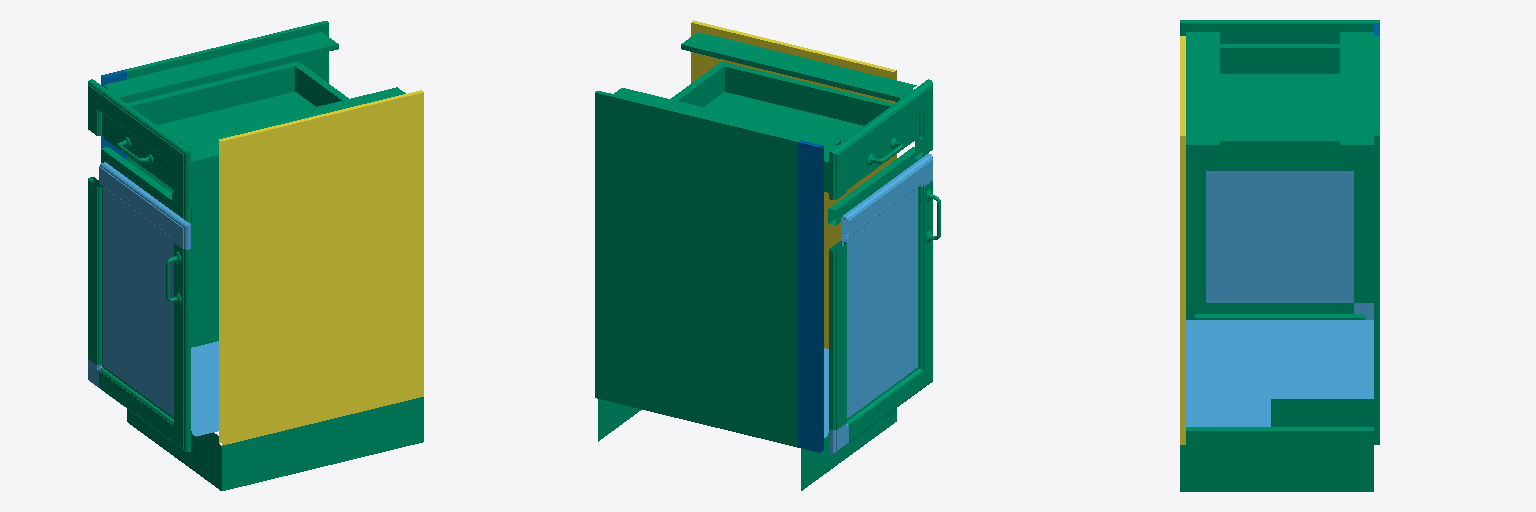
The robot description file, URDF, robot "partnet_3ea1ace396f6ccae48407a54b1fbfda8":
<?xml version="1.0" encoding="utf-8"?>
<robot name="partnet_3ea1ace396f6ccae48407a54b1fbfda8">
 <link name="base"/>
 <link name="link_0">
  <visual name="door-1">
   <origin xyz="-0.58423 0.6423879359070063 -0.5040723291093724"/>
   <geometry>
    <mesh filename="textured_objs/original-48.obj"/>
   </geometry>
  </visual>
  <visual name="door-1">
   <origin xyz="-0.58423 0.6423879359070063 -0.5040723291093724"/>
   <geometry>
    <mesh filename="textured_objs/original-54.obj"/>
   </geometry>
  </visual>
  <visual name="door-1">
   <origin xyz="-0.58423 0.6423879359070063 -0.5040723291093724"/>
   <geometry>
    <mesh filename="textured_objs/original-53.obj"/>
   </geometry>
  </visual>
  <visual name="door-1">
   <origin xyz="-0.58423 0.6423879359070063 -0.5040723291093724"/>
   <geometry>
    <mesh filename="textured_objs/original-52.obj"/>
   </geometry>
  </visual>
  <visual name="door-1">
   <origin xyz="-0.58423 0.6423879359070063 -0.5040723291093724"/>
   <geometry>
    <mesh filename="textured_objs/original-3.obj"/>
   </geometry>
  </visual>
  <visual name="door-1">
   <origin xyz="-0.58423 0.6423879359070063 -0.5040723291093724"/>
   <geometry>
    <mesh filename="textured_objs/original-49.obj"/>
   </geometry>
  </visual>
  <collision>
   <geometry>
    <mesh filename="cvx_objs/link_0.obj"/>
   </geometry>
  </collision>
 </link>
 <joint name="joint_0" type="revolute">
  <origin xyz="0.58423 -0.6423879359070063 0.5040723291093724"/>
  <axis xyz="1 0 0"/>
  <child link="link_0"/>
  <parent link="link_9"/>
  <limit lower="0.0" upper="1.5707963267948966"/>
 </joint>
 <link name="link_1">
  <visual name="knob-2">
   <origin xyz="0.48916950000000003 -0.5199065 0"/>
   <geometry>
    <mesh filename="textured_objs/original-9.obj"/>
   </geometry>
  </visual>
  <collision>
   <geometry>
    <mesh filename="cvx_objs/link_1.obj"/>
   </geometry>
  </collision>
 </link>
 <joint name="joint_1" type="continuous">
  <origin xyz="-0.48916950000000003 0.5199065 0"/>
  <axis xyz="0 0 1"/>
  <child link="link_1"/>
  <parent link="link_9"/>
 </joint>
 <link name="link_2">
  <visual name="knob-3">
   <origin xyz="0.37333099999999997 -0.5199065 0"/>
   <geometry>
    <mesh filename="textured_objs/original-12.obj"/>
   </geometry>
  </visual>
  <collision>
   <geometry>
    <mesh filename="cvx_objs/link_2.obj"/>
   </geometry>
  </collision>
 </link>
 <joint name="joint_2" type="continuous">
  <origin xyz="-0.37333099999999997 0.5199065 0"/>
  <axis xyz="0 0 1"/>
  <child link="link_2"/>
  <parent link="link_9"/>
 </joint>
 <link name="link_3">
  <visual name="knob-4">
   <origin xyz="0.25749299999999997 -0.5199065 0"/>
   <geometry>
    <mesh filename="textured_objs/original-15.obj"/>
   </geometry>
  </visual>
  <collision>
   <geometry>
    <mesh filename="cvx_objs/link_3.obj"/>
   </geometry>
  </collision>
 </link>
 <joint name="joint_3" type="continuous">
  <origin xyz="-0.25749299999999997 0.5199065 0"/>
  <axis xyz="0 0 1"/>
  <child link="link_3"/>
  <parent link="link_9"/>
 </joint>
 <link name="link_4">
  <visual name="button-5">
   <origin xyz="0.076329 -0.518193 0"/>
   <geometry>
    <mesh filename="textured_objs/original-101.obj"/>
   </geometry>
  </visual>
  <collision>
   <geometry>
    <mesh filename="cvx_objs/link_4.obj"/>
   </geometry>
  </collision>
 </link>
 <joint name="joint_4" type="prismatic">
  <origin xyz="-0.076329 0.518193 0"/>
  <axis xyz="0 0 -1"/>
  <child link="link_4"/>
  <parent link="link_9"/>
  <limit lower="0" upper="0.008000000000000007"/>
 </joint>
 <link name="link_5">
  <visual name="button-6">
   <origin xyz="0.076329 -0.518193 0"/>
   <geometry>
    <mesh filename="textured_objs/original-102.obj"/>
   </geometry>
  </visual>
  <collision>
   <geometry>
    <mesh filename="cvx_objs/link_5.obj"/>
   </geometry>
  </collision>
 </link>
 <joint name="joint_5" type="prismatic">
  <origin xyz="-0.076329 0.518193 0"/>
  <axis xyz="0 0 -1"/>
  <child link="link_5"/>
  <parent link="link_9"/>
  <limit lower="0" upper="0.008000000000000007"/>
 </joint>
 <link name="link_6">
  <visual name="button-7">
   <origin xyz="0.076329 -0.518193 0"/>
   <geometry>
    <mesh filename="textured_objs/original-109.obj"/>
   </geometry>
  </visual>
  <collision>
   <geometry>
    <mesh filename="cvx_objs/link_6.obj"/>
   </geometry>
  </collision>
 </link>
 <joint name="joint_6" type="prismatic">
  <origin xyz="-0.076329 0.518193 0"/>
  <axis xyz="0 0 -1"/>
  <child link="link_6"/>
  <parent link="link_9"/>
  <limit lower="0" upper="0.008000000000000007"/>
 </joint>
 <link name="link_7">
  <visual name="button-8">
   <origin xyz="0.076329 -0.518193 0"/>
   <geometry>
    <mesh filename="textured_objs/original-100.obj"/>
   </geometry>
  </visual>
  <collision>
   <geometry>
    <mesh filename="cvx_objs/link_7.obj"/>
   </geometry>
  </collision>
 </link>
 <joint name="joint_7" type="prismatic">
  <origin xyz="-0.076329 0.518193 0"/>
  <axis xyz="0 0 -1"/>
  <child link="link_7"/>
  <parent link="link_9"/>
  <limit lower="0" upper="0.008000000000000007"/>
 </joint>
 <link name="link_8">
  <visual name="button-9">
   <origin xyz="0.076329 -0.518193 0"/>
   <geometry>
    <mesh filename="textured_objs/original-107.obj"/>
   </geometry>
  </visual>
  <collision>
   <geometry>
    <mesh filename="cvx_objs/link_8.obj"/>
   </geometry>
  </collision>
 </link>
 <joint name="joint_8" type="prismatic">
  <origin xyz="-0.076329 0.518193 0"/>
  <axis xyz="0 0 -1"/>
  <child link="link_8"/>
  <parent link="link_9"/>
  <limit lower="0" upper="0.008000000000000007"/>
 </joint>
 <link name="link_9">
  <visual name="base_body-10">
   <origin xyz="0 0 0"/>
   <geometry>
    <mesh filename="textured_objs/original-103.obj"/>
   </geometry>
  </visual>
  <visual name="base_body-10">
   <origin xyz="0 0 0"/>
   <geometry>
    <mesh filename="textured_objs/original-21.obj"/>
   </geometry>
  </visual>
  <visual name="base_body-10">
   <origin xyz="0 0 0"/>
   <geometry>
    <mesh filename="textured_objs/original-30.obj"/>
   </geometry>
  </visual>
  <visual name="base_body-10">
   <origin xyz="0 0 0"/>
   <geometry>
    <mesh filename="textured_objs/original-36.obj"/>
   </geometry>
  </visual>
  <visual name="base_body-10">
   <origin xyz="0 0 0"/>
   <geometry>
    <mesh filename="textured_objs/original-28.obj"/>
   </geometry>
  </visual>
  <visual name="base_body-10">
   <origin xyz="0 0 0"/>
   <geometry>
    <mesh filename="textured_objs/original-96.obj"/>
   </geometry>
  </visual>
  <visual name="base_body-10">
   <origin xyz="0 0 0"/>
   <geometry>
    <mesh filename="textured_objs/original-64.obj"/>
   </geometry>
  </visual>
  <visual name="base_body-10">
   <origin xyz="0 0 0"/>
   <geometry>
    <mesh filename="textured_objs/original-43.obj"/>
   </geometry>
  </visual>
  <visual name="base_body-10">
   <origin xyz="0 0 0"/>
   <geometry>
    <mesh filename="textured_objs/original-71.obj"/>
   </geometry>
  </visual>
  <visual name="base_body-10">
   <origin xyz="0 0 0"/>
   <geometry>
    <mesh filename="textured_objs/original-83.obj"/>
   </geometry>
  </visual>
  <visual name="base_body-10">
   <origin xyz="0 0 0"/>
   <geometry>
    <mesh filename="textured_objs/original-22.obj"/>
   </geometry>
  </visual>
  <visual name="base_body-10">
   <origin xyz="0 0 0"/>
   <geometry>
    <mesh filename="textured_objs/original-26.obj"/>
   </geometry>
  </visual>
  <visual name="base_body-10">
   <origin xyz="0 0 0"/>
   <geometry>
    <mesh filename="textured_objs/original-104.obj"/>
   </geometry>
  </visual>
  <visual name="base_body-10">
   <origin xyz="0 0 0"/>
   <geometry>
    <mesh filename="textured_objs/original-65.obj"/>
   </geometry>
  </visual>
  <visual name="base_body-10">
   <origin xyz="0 0 0"/>
   <geometry>
    <mesh filename="textured_objs/original-33.obj"/>
   </geometry>
  </visual>
  <visual name="base_body-10">
   <origin xyz="0 0 0"/>
   <geometry>
    <mesh filename="textured_objs/original-44.obj"/>
   </geometry>
  </visual>
  <visual name="base_body-10">
   <origin xyz="0 0 0"/>
   <geometry>
    <mesh filename="textured_objs/original-106.obj"/>
   </geometry>
  </visual>
  <visual name="base_body-10">
   <origin xyz="0 0 0"/>
   <geometry>
    <mesh filename="textured_objs/original-16.obj"/>
   </geometry>
  </visual>
  <visual name="base_body-10">
   <origin xyz="0 0 0"/>
   <geometry>
    <mesh filename="textured_objs/original-86.obj"/>
   </geometry>
  </visual>
  <visual name="base_body-10">
   <origin xyz="0 0 0"/>
   <geometry>
    <mesh filename="textured_objs/original-13.obj"/>
   </geometry>
  </visual>
  <visual name="base_body-10">
   <origin xyz="0 0 0"/>
   <geometry>
    <mesh filename="textured_objs/original-45.obj"/>
   </geometry>
  </visual>
  <visual name="base_body-10">
   <origin xyz="0 0 0"/>
   <geometry>
    <mesh filename="textured_objs/original-35.obj"/>
   </geometry>
  </visual>
  <visual name="base_body-10">
   <origin xyz="0 0 0"/>
   <geometry>
    <mesh filename="textured_objs/original-93.obj"/>
   </geometry>
  </visual>
  <visual name="base_body-10">
   <origin xyz="0 0 0"/>
   <geometry>
    <mesh filename="textured_objs/original-61.obj"/>
   </geometry>
  </visual>
  <visual name="base_body-10">
   <origin xyz="0 0 0"/>
   <geometry>
    <mesh filename="textured_objs/original-39.obj"/>
   </geometry>
  </visual>
  <visual name="base_body-10">
   <origin xyz="0 0 0"/>
   <geometry>
    <mesh filename="textured_objs/original-59.obj"/>
   </geometry>
  </visual>
  <visual name="base_body-10">
   <origin xyz="0 0 0"/>
   <geometry>
    <mesh filename="textured_objs/original-77.obj"/>
   </geometry>
  </visual>
  <visual name="base_body-10">
   <origin xyz="0 0 0"/>
   <geometry>
    <mesh filename="textured_objs/original-63.obj"/>
   </geometry>
  </visual>
  <visual name="base_body-10">
   <origin xyz="0 0 0"/>
   <geometry>
    <mesh filename="textured_objs/original-27.obj"/>
   </geometry>
  </visual>
  <visual name="base_body-10">
   <origin xyz="0 0 0"/>
   <geometry>
    <mesh filename="textured_objs/original-87.obj"/>
   </geometry>
  </visual>
  <visual name="base_body-10">
   <origin xyz="0 0 0"/>
   <geometry>
    <mesh filename="textured_objs/original-51.obj"/>
   </geometry>
  </visual>
  <visual name="base_body-10">
   <origin xyz="0 0 0"/>
   <geometry>
    <mesh filename="textured_objs/original-55.obj"/>
   </geometry>
  </visual>
  <visual name="base_body-10">
   <origin xyz="0 0 0"/>
   <geometry>
    <mesh filename="textured_objs/original-50.obj"/>
   </geometry>
  </visual>
  <visual name="base_body-10">
   <origin xyz="0 0 0"/>
   <geometry>
    <mesh filename="textured_objs/original-31.obj"/>
   </geometry>
  </visual>
  <visual name="base_body-10">
   <origin xyz="0 0 0"/>
   <geometry>
    <mesh filename="textured_objs/original-85.obj"/>
   </geometry>
  </visual>
  <visual name="base_body-10">
   <origin xyz="0 0 0"/>
   <geometry>
    <mesh filename="textured_objs/original-56.obj"/>
   </geometry>
  </visual>
  <visual name="base_body-10">
   <origin xyz="0 0 0"/>
   <geometry>
    <mesh filename="textured_objs/original-76.obj"/>
   </geometry>
  </visual>
  <visual name="base_body-10">
   <origin xyz="0 0 0"/>
   <geometry>
    <mesh filename="textured_objs/original-108.obj"/>
   </geometry>
  </visual>
  <visual name="base_body-10">
   <origin xyz="0 0 0"/>
   <geometry>
    <mesh filename="textured_objs/original-72.obj"/>
   </geometry>
  </visual>
  <visual name="base_body-10">
   <origin xyz="0 0 0"/>
   <geometry>
    <mesh filename="textured_objs/original-99.obj"/>
   </geometry>
  </visual>
  <visual name="base_body-10">
   <origin xyz="0 0 0"/>
   <geometry>
    <mesh filename="textured_objs/original-62.obj"/>
   </geometry>
  </visual>
  <visual name="base_body-10">
   <origin xyz="0 0 0"/>
   <geometry>
    <mesh filename="textured_objs/original-75.obj"/>
   </geometry>
  </visual>
  <visual name="base_body-10">
   <origin xyz="0 0 0"/>
   <geometry>
    <mesh filename="textured_objs/original-23.obj"/>
   </geometry>
  </visual>
  <visual name="base_body-10">
   <origin xyz="0 0 0"/>
   <geometry>
    <mesh filename="textured_objs/original-66.obj"/>
   </geometry>
  </visual>
  <visual name="base_body-10">
   <origin xyz="0 0 0"/>
   <geometry>
    <mesh filename="textured_objs/original-58.obj"/>
   </geometry>
  </visual>
  <visual name="base_body-10">
   <origin xyz="0 0 0"/>
   <geometry>
    <mesh filename="textured_objs/original-98.obj"/>
   </geometry>
  </visual>
  <visual name="base_body-10">
   <origin xyz="0 0 0"/>
   <geometry>
    <mesh filename="textured_objs/original-67.obj"/>
   </geometry>
  </visual>
  <visual name="base_body-10">
   <origin xyz="0 0 0"/>
   <geometry>
    <mesh filename="textured_objs/original-69.obj"/>
   </geometry>
  </visual>
  <visual name="base_body-10">
   <origin xyz="0 0 0"/>
   <geometry>
    <mesh filename="textured_objs/original-38.obj"/>
   </geometry>
  </visual>
  <visual name="base_body-10">
   <origin xyz="0 0 0"/>
   <geometry>
    <mesh filename="textured_objs/original-68.obj"/>
   </geometry>
  </visual>
  <visual name="base_body-10">
   <origin xyz="0 0 0"/>
   <geometry>
    <mesh filename="textured_objs/original-80.obj"/>
   </geometry>
  </visual>
  <visual name="base_body-10">
   <origin xyz="0 0 0"/>
   <geometry>
    <mesh filename="textured_objs/original-34.obj"/>
   </geometry>
  </visual>
  <visual name="base_body-10">
   <origin xyz="0 0 0"/>
   <geometry>
    <mesh filename="textured_objs/original-18.obj"/>
   </geometry>
  </visual>
  <visual name="base_body-10">
   <origin xyz="0 0 0"/>
   <geometry>
    <mesh filename="textured_objs/original-70.obj"/>
   </geometry>
  </visual>
  <visual name="base_body-10">
   <origin xyz="0 0 0"/>
   <geometry>
    <mesh filename="textured_objs/original-74.obj"/>
   </geometry>
  </visual>
  <visual name="base_body-10">
   <origin xyz="0 0 0"/>
   <geometry>
    <mesh filename="textured_objs/original-91.obj"/>
   </geometry>
  </visual>
  <visual name="base_body-10">
   <origin xyz="0 0 0"/>
   <geometry>
    <mesh filename="textured_objs/original-25.obj"/>
   </geometry>
  </visual>
  <visual name="base_body-10">
   <origin xyz="0 0 0"/>
   <geometry>
    <mesh filename="textured_objs/original-73.obj"/>
   </geometry>
  </visual>
  <visual name="base_body-10">
   <origin xyz="0 0 0"/>
   <geometry>
    <mesh filename="textured_objs/original-92.obj"/>
   </geometry>
  </visual>
  <visual name="base_body-10">
   <origin xyz="0 0 0"/>
   <geometry>
    <mesh filename="textured_objs/original-79.obj"/>
   </geometry>
  </visual>
  <visual name="base_body-10">
   <origin xyz="0 0 0"/>
   <geometry>
    <mesh filename="textured_objs/original-20.obj"/>
   </geometry>
  </visual>
  <visual name="base_body-10">
   <origin xyz="0 0 0"/>
   <geometry>
    <mesh filename="textured_objs/original-88.obj"/>
   </geometry>
  </visual>
  <visual name="base_body-10">
   <origin xyz="0 0 0"/>
   <geometry>
    <mesh filename="textured_objs/original-32.obj"/>
   </geometry>
  </visual>
  <visual name="base_body-10">
   <origin xyz="0 0 0"/>
   <geometry>
    <mesh filename="textured_objs/original-95.obj"/>
   </geometry>
  </visual>
  <visual name="base_body-10">
   <origin xyz="0 0 0"/>
   <geometry>
    <mesh filename="textured_objs/original-105.obj"/>
   </geometry>
  </visual>
  <visual name="base_body-10">
   <origin xyz="0 0 0"/>
   <geometry>
    <mesh filename="textured_objs/original-81.obj"/>
   </geometry>
  </visual>
  <visual name="base_body-10">
   <origin xyz="0 0 0"/>
   <geometry>
    <mesh filename="textured_objs/original-84.obj"/>
   </geometry>
  </visual>
  <visual name="base_body-10">
   <origin xyz="0 0 0"/>
   <geometry>
    <mesh filename="textured_objs/original-94.obj"/>
   </geometry>
  </visual>
  <visual name="base_body-10">
   <origin xyz="0 0 0"/>
   <geometry>
    <mesh filename="textured_objs/original-78.obj"/>
   </geometry>
  </visual>
  <visual name="base_body-10">
   <origin xyz="0 0 0"/>
   <geometry>
    <mesh filename="textured_objs/original-97.obj"/>
   </geometry>
  </visual>
  <visual name="base_body-10">
   <origin xyz="0 0 0"/>
   <geometry>
    <mesh filename="textured_objs/original-89.obj"/>
   </geometry>
  </visual>
  <visual name="base_body-10">
   <origin xyz="0 0 0"/>
   <geometry>
    <mesh filename="textured_objs/original-10.obj"/>
   </geometry>
  </visual>
  <visual name="base_body-10">
   <origin xyz="0 0 0"/>
   <geometry>
    <mesh filename="textured_objs/original-82.obj"/>
   </geometry>
  </visual>
  <visual name="base_body-10">
   <origin xyz="0 0 0"/>
   <geometry>
    <mesh filename="textured_objs/original-60.obj"/>
   </geometry>
  </visual>
  <visual name="base_body-10">
   <origin xyz="0 0 0"/>
   <geometry>
    <mesh filename="textured_objs/original-19.obj"/>
   </geometry>
  </visual>
  <visual name="base_body-10">
   <origin xyz="0 0 0"/>
   <geometry>
    <mesh filename="textured_objs/original-90.obj"/>
   </geometry>
  </visual>
  <visual name="base_body-10">
   <origin xyz="0 0 0"/>
   <geometry>
    <mesh filename="textured_objs/original-40.obj"/>
   </geometry>
  </visual>
  <visual name="base_body-10">
   <origin xyz="0 0 0"/>
   <geometry>
    <mesh filename="textured_objs/original-57.obj"/>
   </geometry>
  </visual>
  <collision>
   <geometry>
    <mesh filename="cvx_objs/link_9.obj"/>
   </geometry>
  </collision>
 </link>
 <joint name="joint_9" type="fixed">
  <origin rpy="1.570796326794897 0 -1.570796326794897" xyz="0 0 0"/>
  <child link="link_9"/>
  <parent link="base"/>
 </joint>
</robot>

--- What the picture shows (computed from the rendered views, not written in the file) ---
3 views of the same robot in one strip: view 1: azimuth 30°, elevation 25°; view 2: azimuth 150°, elevation 25°; view 3: azimuth 270°, elevation 25° (orthographic).
Model partnet_3ea1ace396f6ccae48407a54b1fbfda8 with 11 links and 10 joints (1 revolute, 3 continuous, 5 prismatic, 1 fixed), rooted at base, posed every joint at zero.
Links seen in each view (by area): view 1: link_2, link_9, link_0; view 2: link_9, link_0, link_3, link_2; view 3: link_9, link_0, link_2, link_1.
Link boxes in pixels (x1=…): link_2: x1=219, y1=90, x2=423, y2=445; link_9: x1=88, y1=21, x2=423, y2=490; link_0: x1=88, y1=162, x2=218, y2=436; link_9: x1=595, y1=32, x2=940, y2=490; link_0: x1=824, y1=153, x2=932, y2=453; link_3: x1=798, y1=140, x2=823, y2=452; link_2: x1=691, y1=20, x2=896, y2=348; link_9: x1=1180, y1=20, x2=1379, y2=491; link_0: x1=1186, y1=171, x2=1373, y2=426; link_2: x1=1180, y1=36, x2=1185, y2=444; link_1: x1=1195, y1=314, x2=1364, y2=319.
Bounding box of the posed robot: 1.13 × 0.7674 × 1.5 m (x, y, z).
37 mesh visuals loaded from 92 distinct referenced files (37 OBJ); not drawn: 55 (reference not matched to a file when rendering).